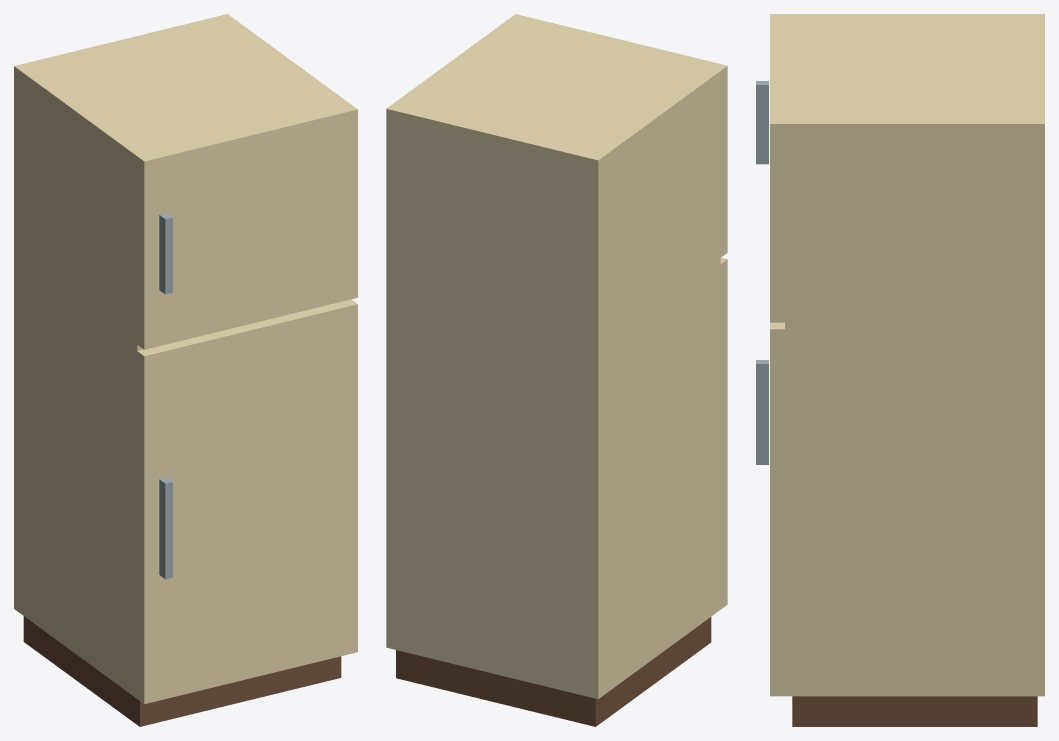
Rendered from GI_Fridge_Retro_01.glb.
The picture shows the model from 3 angles, left to right: view 1: azimuth 30°, elevation 25°; view 2: azimuth 150°, elevation 25°; view 3: azimuth 270°, elevation 25°; orthographic projection. The views are drawn at different scales.
Visible parts, largest first — view 1: GI_Fridge_Retro_01, Door, DoorFreezer; view 2: GI_Fridge_Retro_01, DoorFreezer, Door; view 3: GI_Fridge_Retro_01, Door, DoorFreezer.
Part boxes in pixels (x1,y1,x2,y2): GI_Fridge_Retro_01: (14, 14, 350, 726); Door: (137, 299, 357, 704); DoorFreezer: (137, 104, 357, 349); GI_Fridge_Retro_01: (386, 19, 720, 726); DoorFreezer: (509, 14, 727, 257); Door: (720, 257, 727, 609); GI_Fridge_Retro_01: (785, 14, 1044, 726); Door: (756, 322, 784, 696); DoorFreezer: (756, 14, 784, 322).
Bounding box in the file's own units: 0.7 × 1.8 × 0.7775.
Materials: 1 (1 with a texture image).
